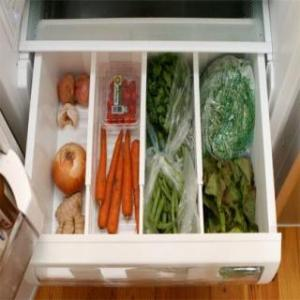carrot: (107, 143, 124, 237), (94, 124, 108, 209), (132, 134, 142, 234), (122, 125, 132, 221)
onion: (51, 140, 85, 198)
